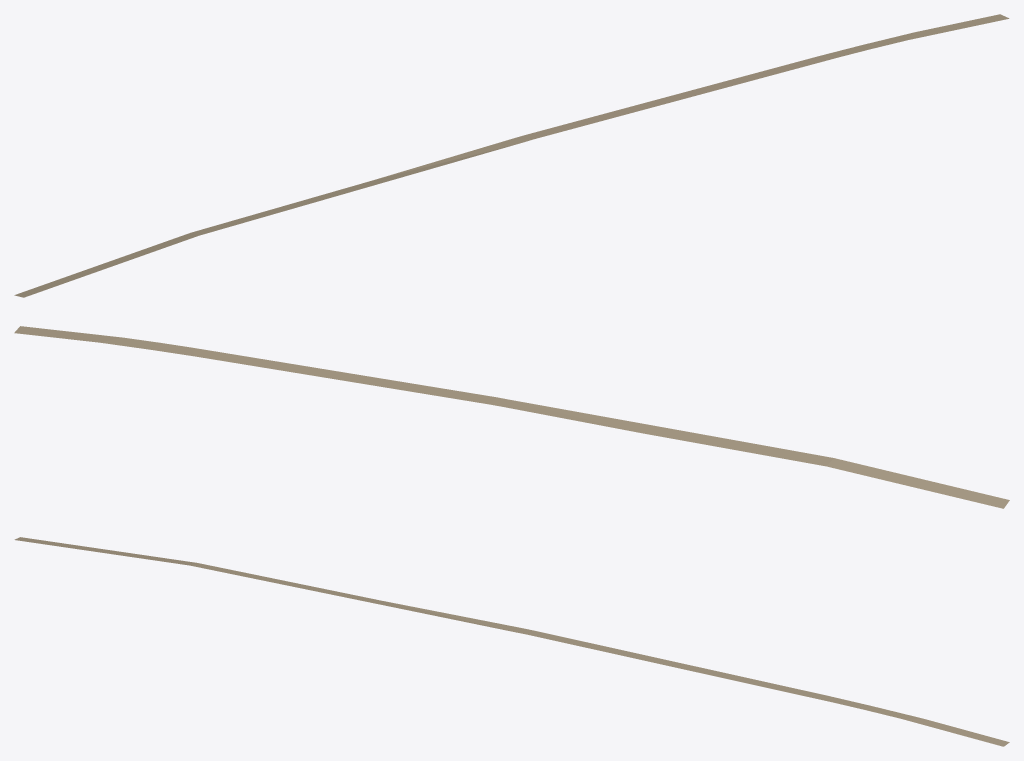
Rendered from farm_4_27_track.glb.
3 renders of one model, top to bottom at view 1: azimuth 30°, elevation 25°; view 2: azimuth 150°, elevation 25°; view 3: azimuth 330°, elevation 25°, orthographic. The views are drawn at different scales.
Parts seen in each view (by area): view 1: geometry_0; view 2: geometry_0; view 3: geometry_0.
Boxes of the visible parts, left/top/right/bottom form: geometry_0: left=14, top=14, right=1009, bottom=297; geometry_0: left=14, top=326, right=1009, bottom=508; geometry_0: left=14, top=537, right=1009, bottom=746.
Size of the model in its own units: 235 by 6.2 by 25.95.
